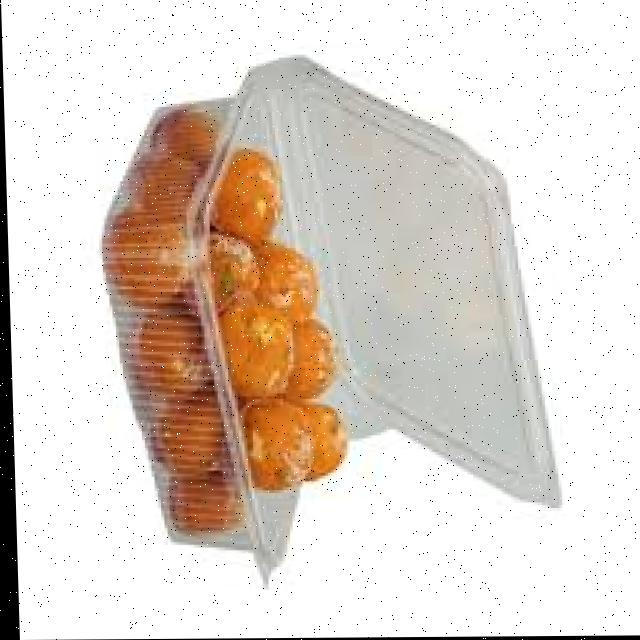disposable: (44, 84, 485, 600)
